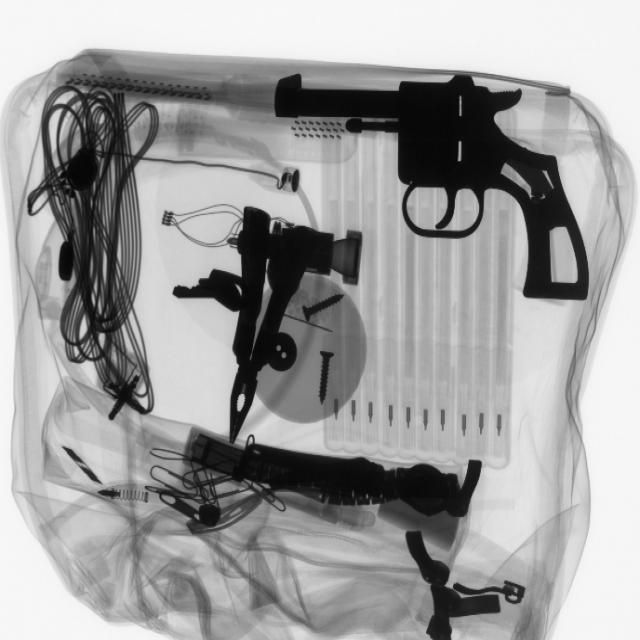GUN: (266, 78, 587, 312)
SCREW: (305, 343, 345, 414), (296, 289, 357, 333)
